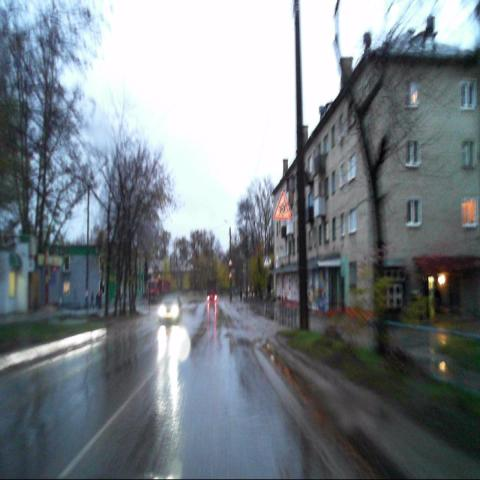1_23: (273, 188, 292, 220)
